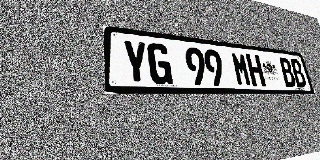9: (184, 47, 208, 85), (203, 49, 226, 86)
B: (278, 57, 297, 87), (289, 59, 307, 87)
G: (147, 42, 173, 85)
H: (245, 54, 266, 87)
M: (230, 52, 252, 86)
Y: (122, 39, 149, 84)
